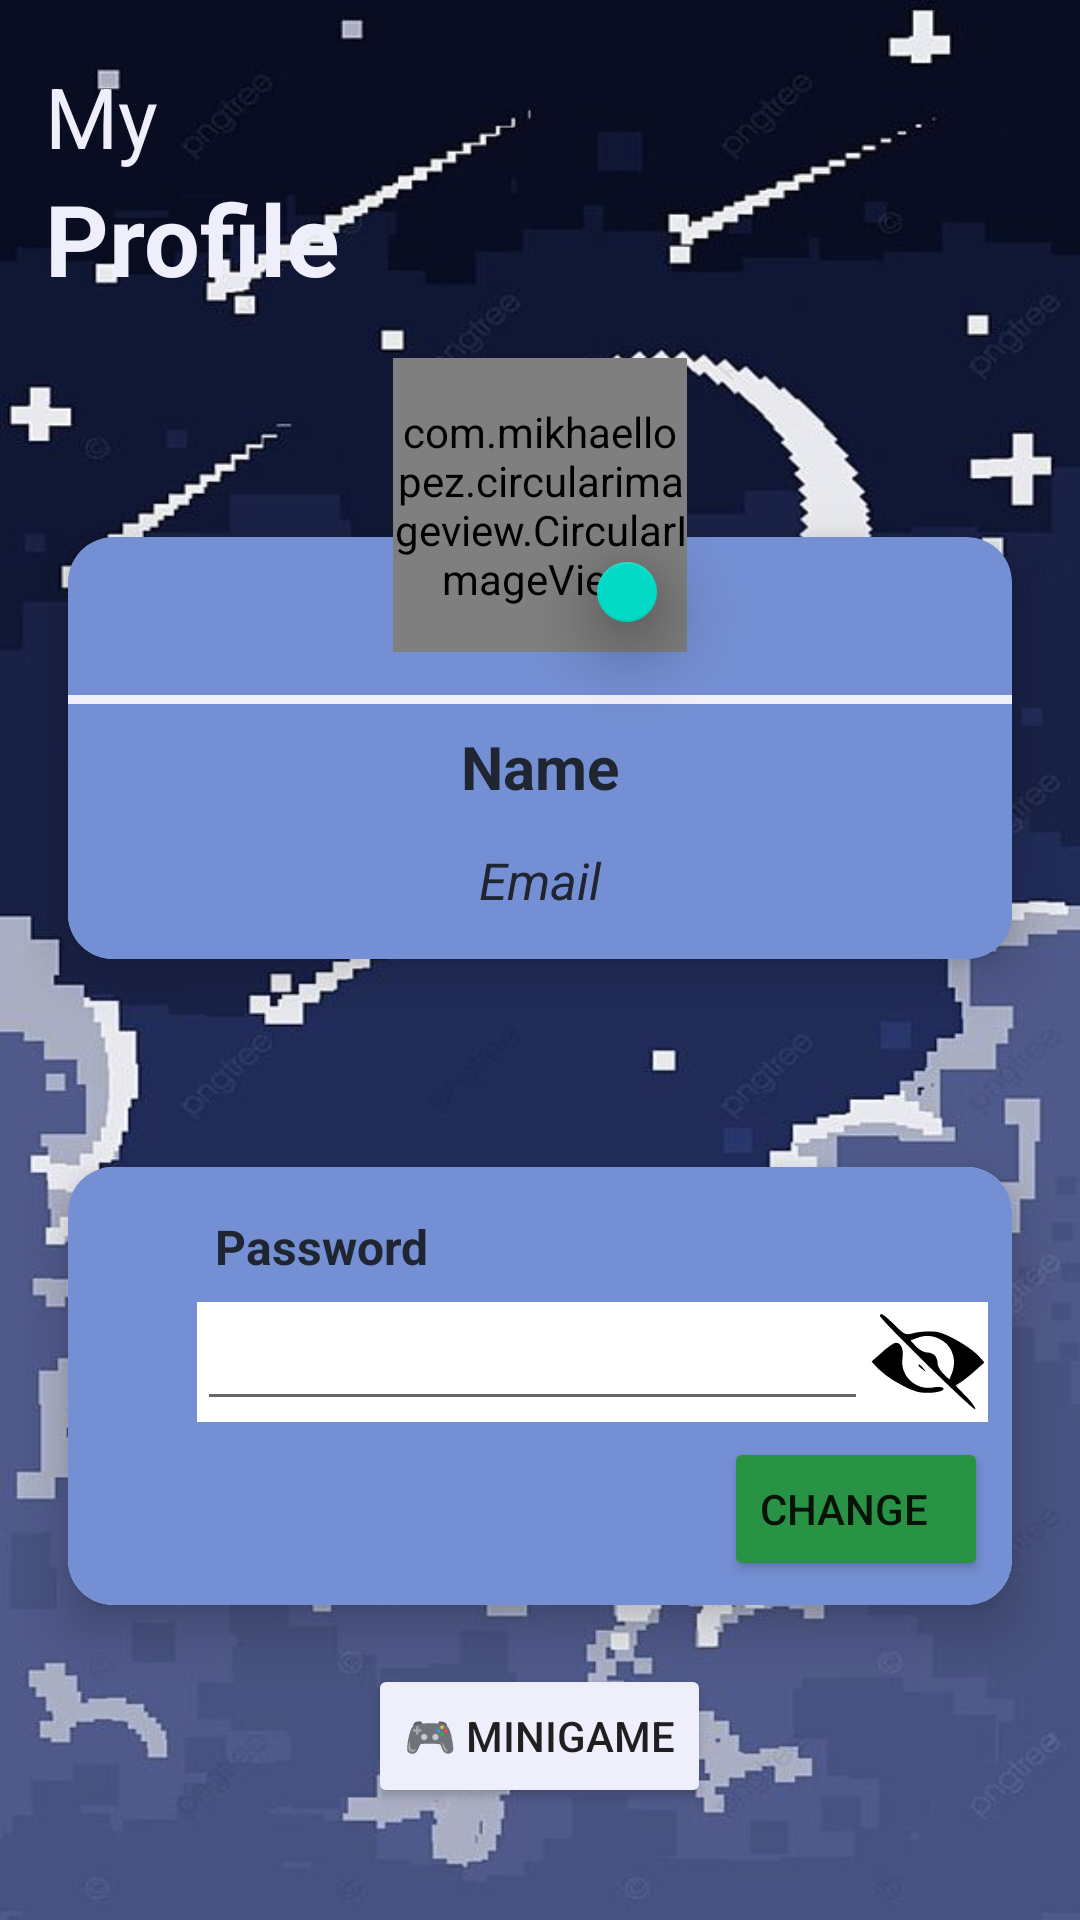

Locate icon controls on the screen. Image size 1080px x 1920px, boxes as (x1, y1, x2, y2).
hide password: (868, 1302, 988, 1422)
